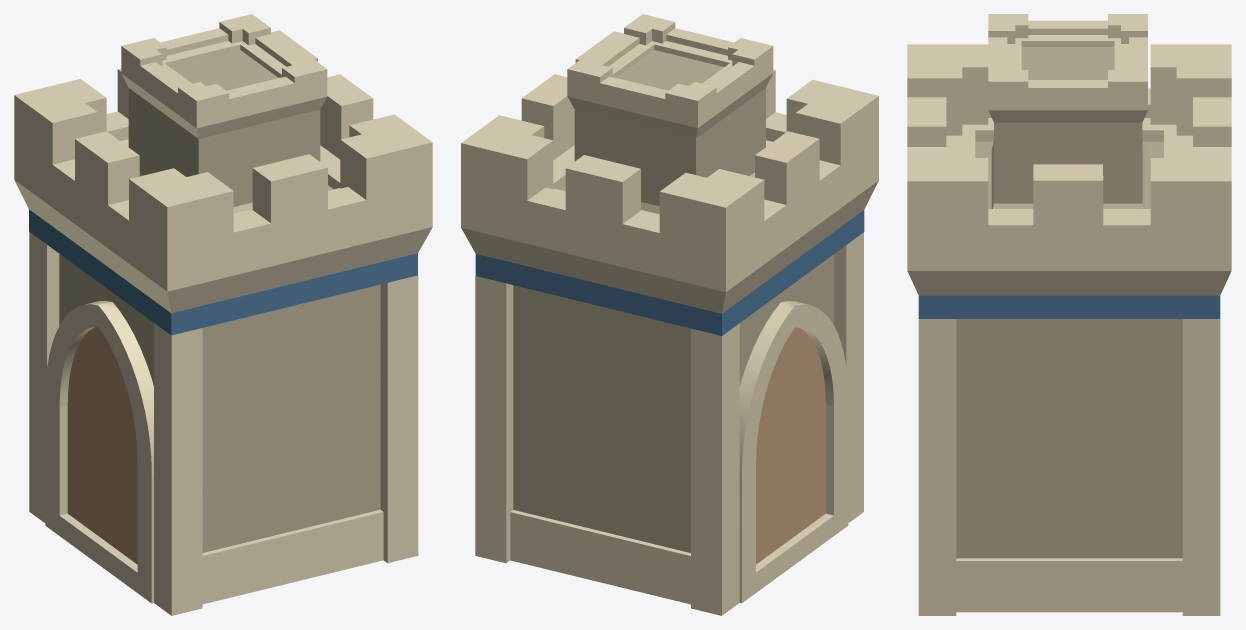
File: castle_lvl2.fbx
3 views of the same model, side by side, from view 1: azimuth 30°, elevation 25°; view 2: azimuth 150°, elevation 25°; view 3: azimuth 270°, elevation 25° (orthographic). The views are drawn at different scales.
Parts seen in each view (by area): view 1: tower2; view 2: tower2; view 3: tower2.
Boxes of the visible parts, box(x1,y1,x2,y2) form: tower2: box(14, 14, 432, 615); tower2: box(461, 14, 878, 615); tower2: box(907, 14, 1231, 615).
Size of the model in its own units: 203 by 349 by 203.
